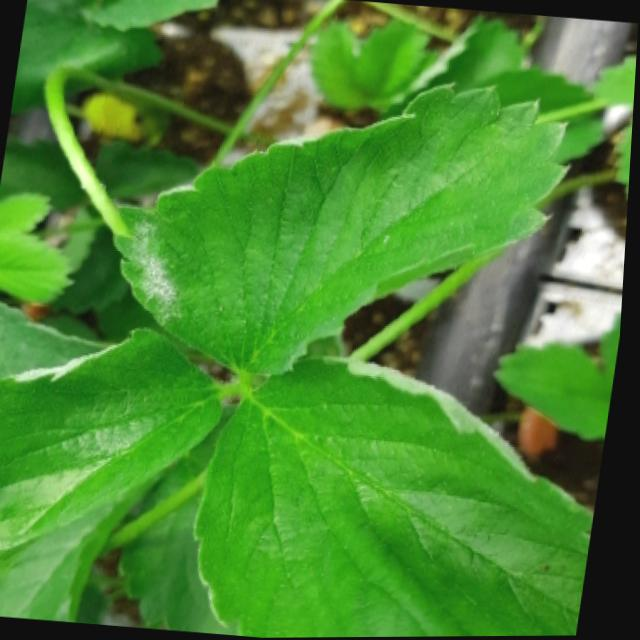Powdery Mildew Leaf: (117, 77, 573, 375), (198, 354, 600, 638), (0, 325, 236, 594)
